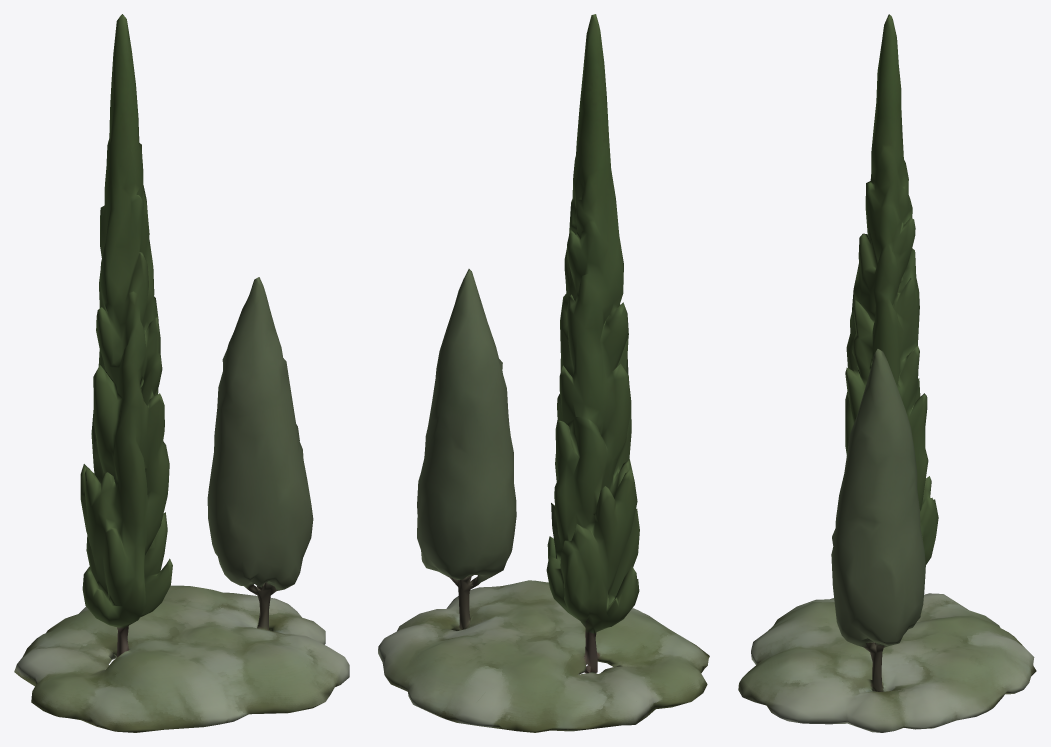
The model's file is cypress2.glb.
3 views of the same model, side by side, from view 1: azimuth 30°, elevation 25°; view 2: azimuth 150°, elevation 25°; view 3: azimuth 270°, elevation 25° (orthographic). The views are drawn at different scales.
Visible parts, largest first — view 1: geometry_0; view 2: geometry_0; view 3: geometry_0.
Boxes of the visible parts, box(x1,y1,x2,y2) form: geometry_0: box(14, 14, 349, 732); geometry_0: box(378, 14, 709, 732); geometry_0: box(738, 14, 1036, 732).
Size of the model in its own units: 0.4535 by 0.9948 by 0.4266.
1 material, 1 textured.
